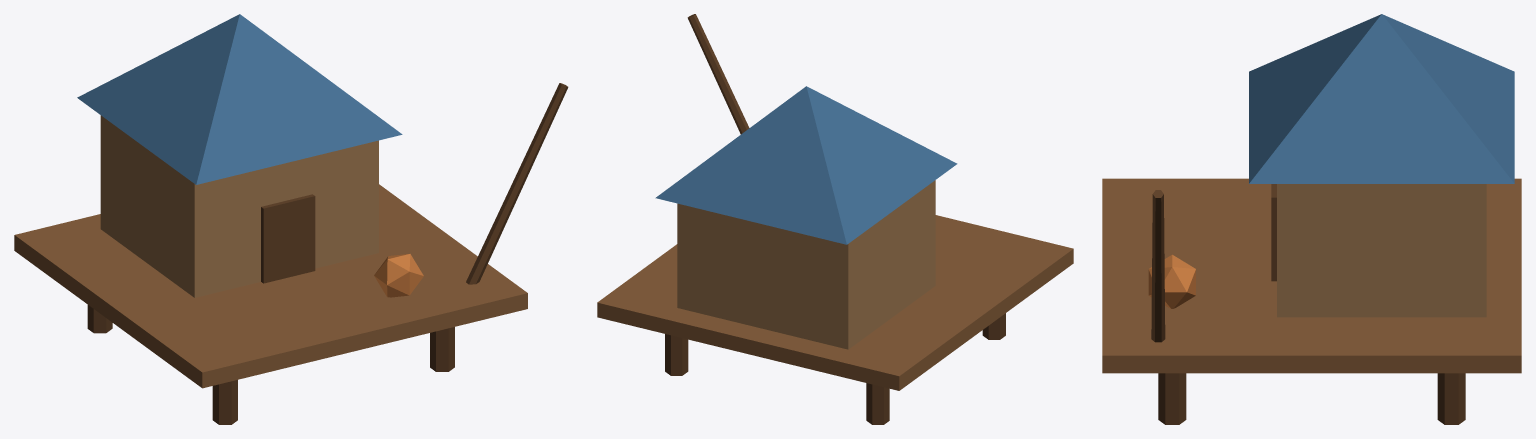
Rendered from fishing-hut.glb.
3 renders of one model, left to right at view 1: azimuth 30°, elevation 25°; view 2: azimuth 150°, elevation 25°; view 3: azimuth 270°, elevation 25°, orthographic. The views are drawn at different scales.
Parts seen in each view (by area): view 1: fishing_hut; view 2: fishing_hut; view 3: fishing_hut.
Boxes of the visible parts, box(x1,y1,x2,y2) form: fishing_hut: box(14, 14, 568, 424); fishing_hut: box(597, 14, 1073, 424); fishing_hut: box(1102, 14, 1521, 424).
Size of the model in its own units: 0.3593 by 0.274 by 0.3.
